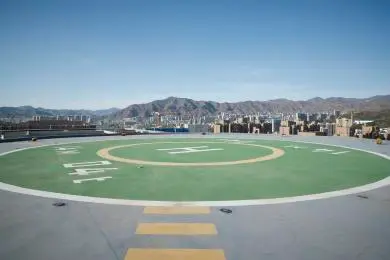Apron: (94, 139, 286, 164)
